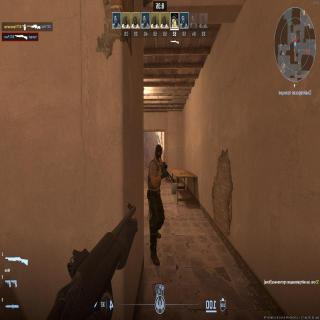T-Body: (144, 144, 170, 262)
T-Head: (155, 145, 163, 161)
